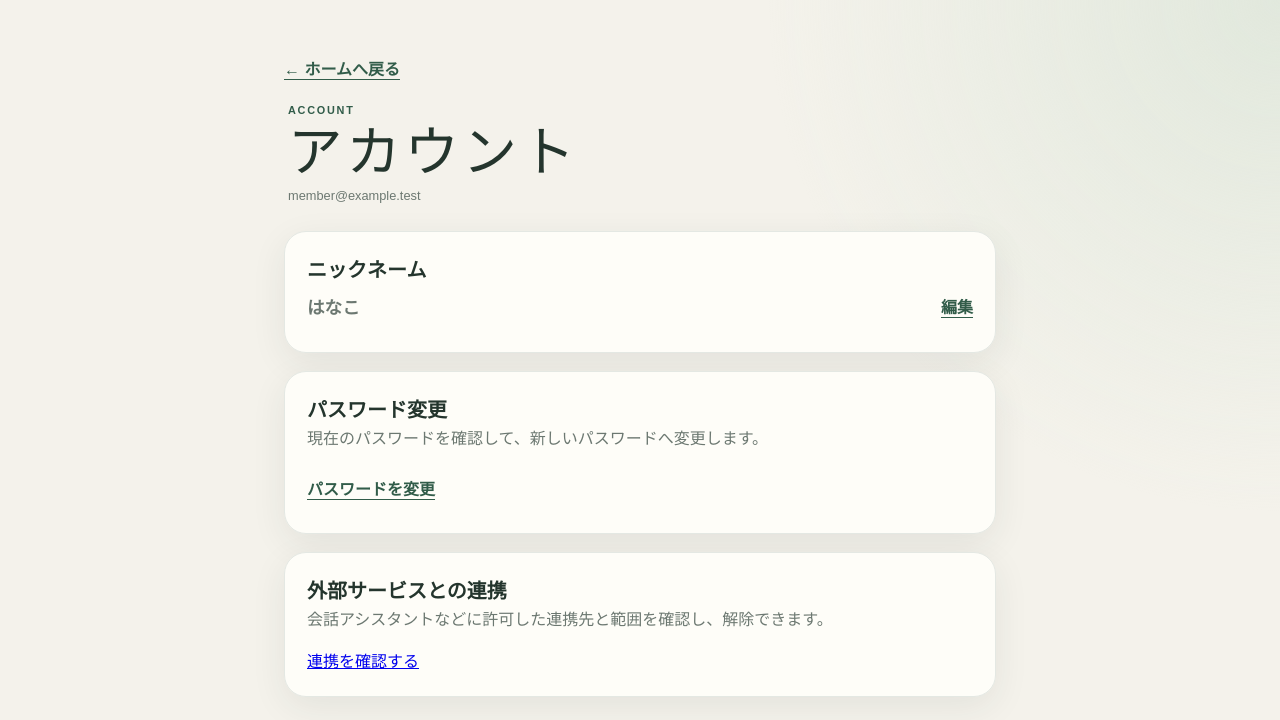
Test case: アカウント画面 › 「編集」を押すと現在のニックネームを初期値とした編集フォームへ切り替わり、「キャンセル」で表示へ戻る(Issue #76)
Click the button "編集": (957, 308) [941, 286, 973, 330]
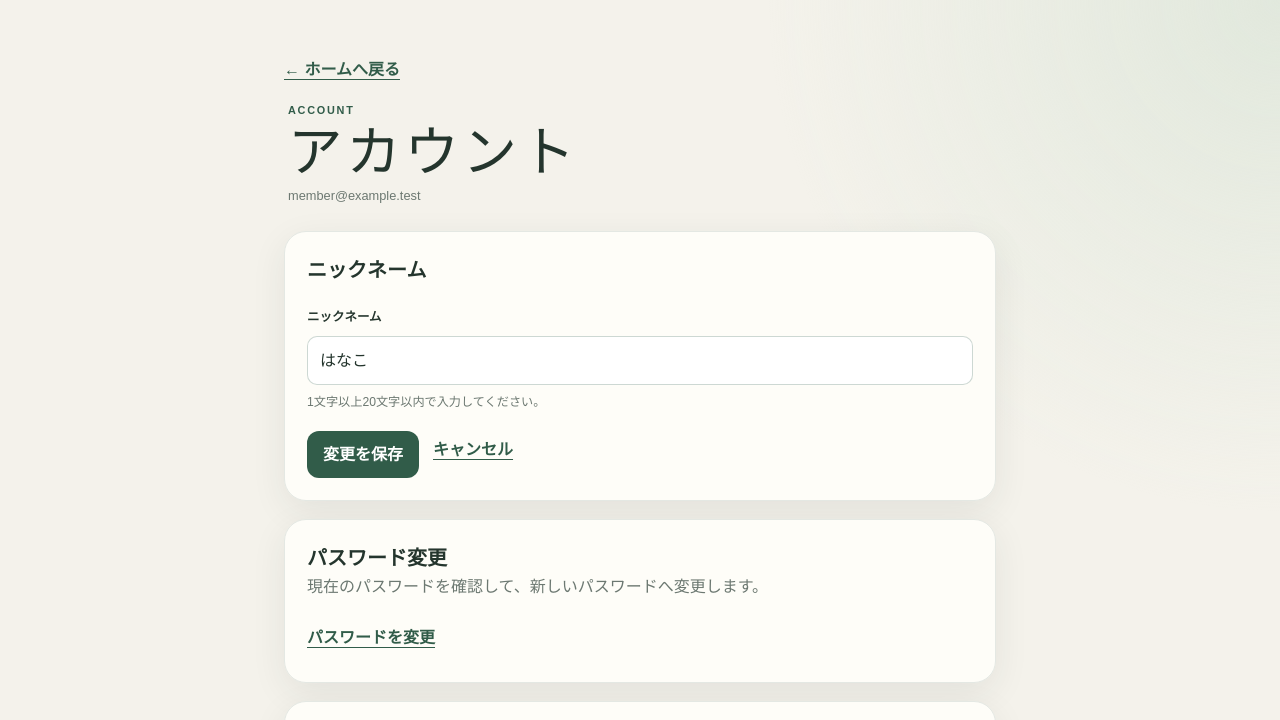
Now the field labelled "ニックネーム" holds "はなこ", box [307, 336, 973, 385]
Now the button "変更を保存" is shown, box [307, 431, 419, 478]
Click the button "キャンセル": (473, 450) [433, 428, 513, 472]
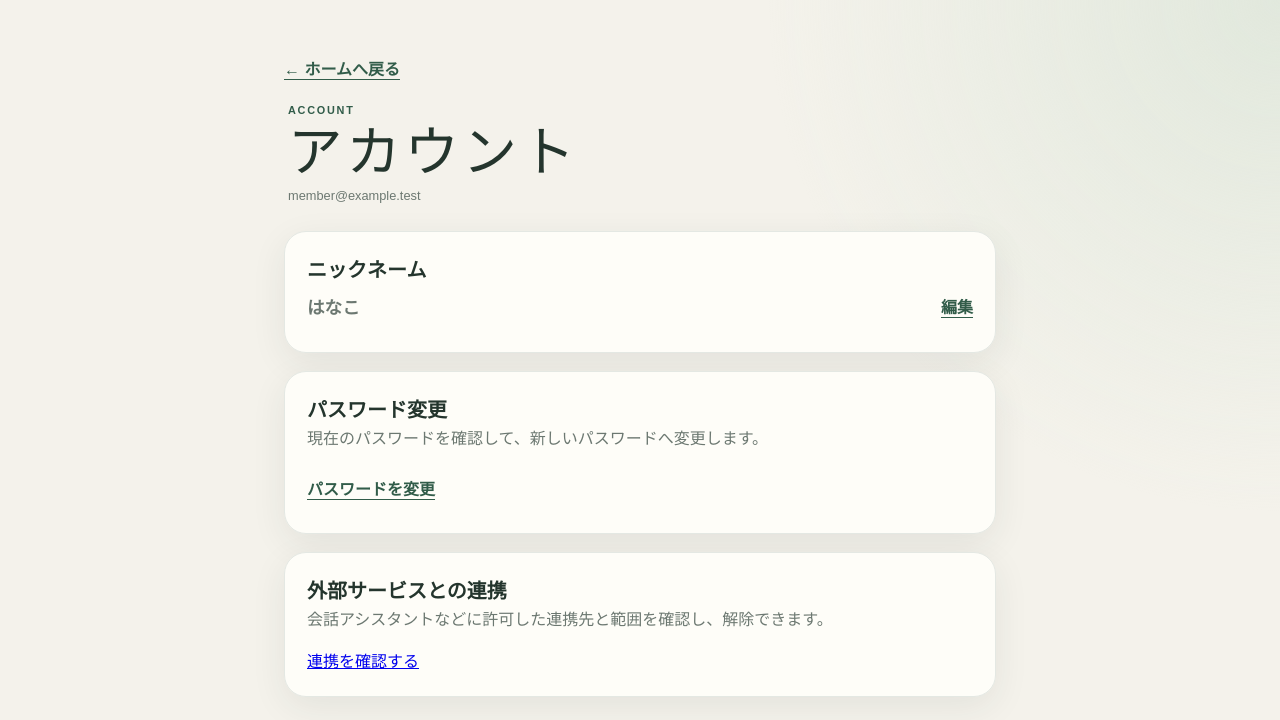
Now the text "はなこ" is shown, box [307, 294, 360, 322]
